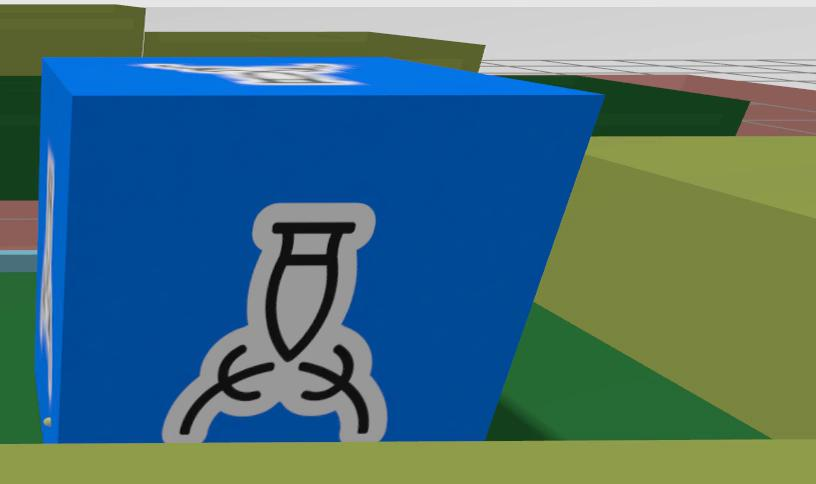KFS_REAL: (35, 54, 598, 441), (163, 203, 386, 442)
